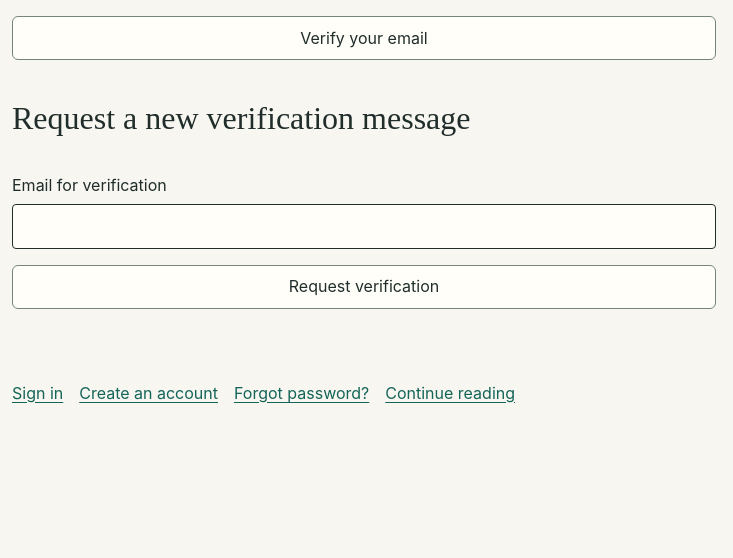
Scenario: account forms › removes the fragment without consuming it until explicit confirmation
What coordinates should you click on to do the following:
click the button "Verify your email"
I would click on:
 (364, 38)
Its box is [12,16,716,60].
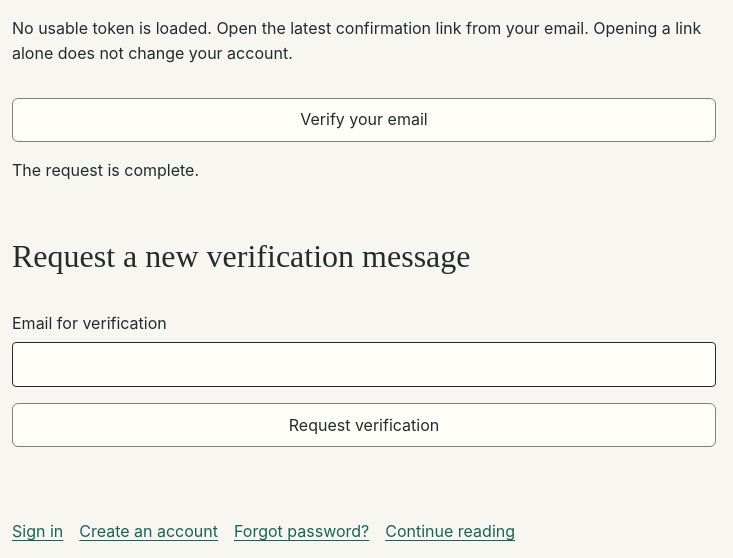
Check: the button "Verify your email" is disabled, box [12,98,716,142]
